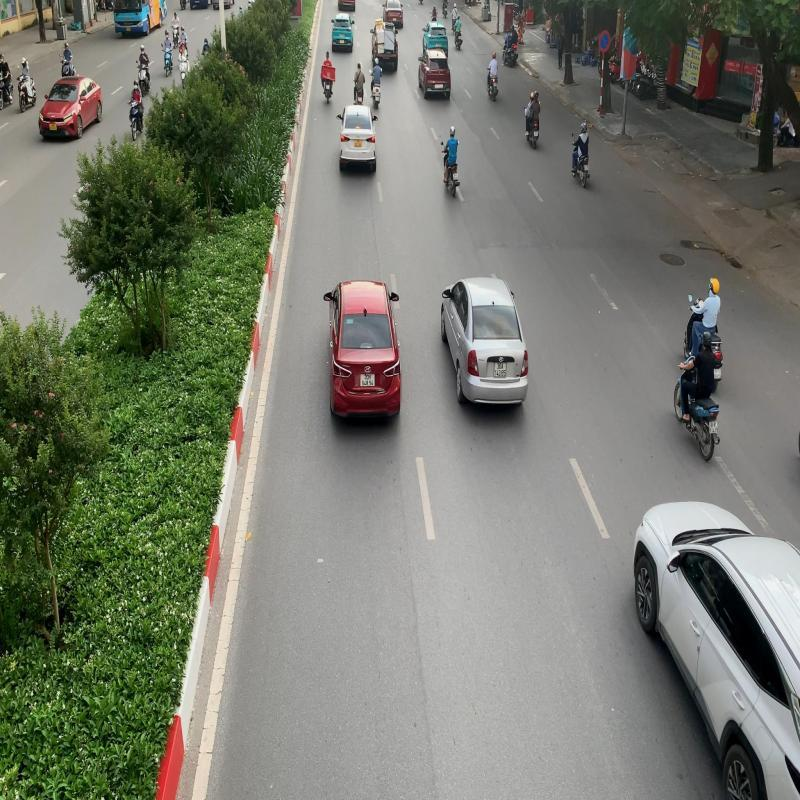helmet: (700, 329, 712, 349)
licenseplate: (710, 420, 719, 434)
motorcyclist: (673, 330, 721, 463)
